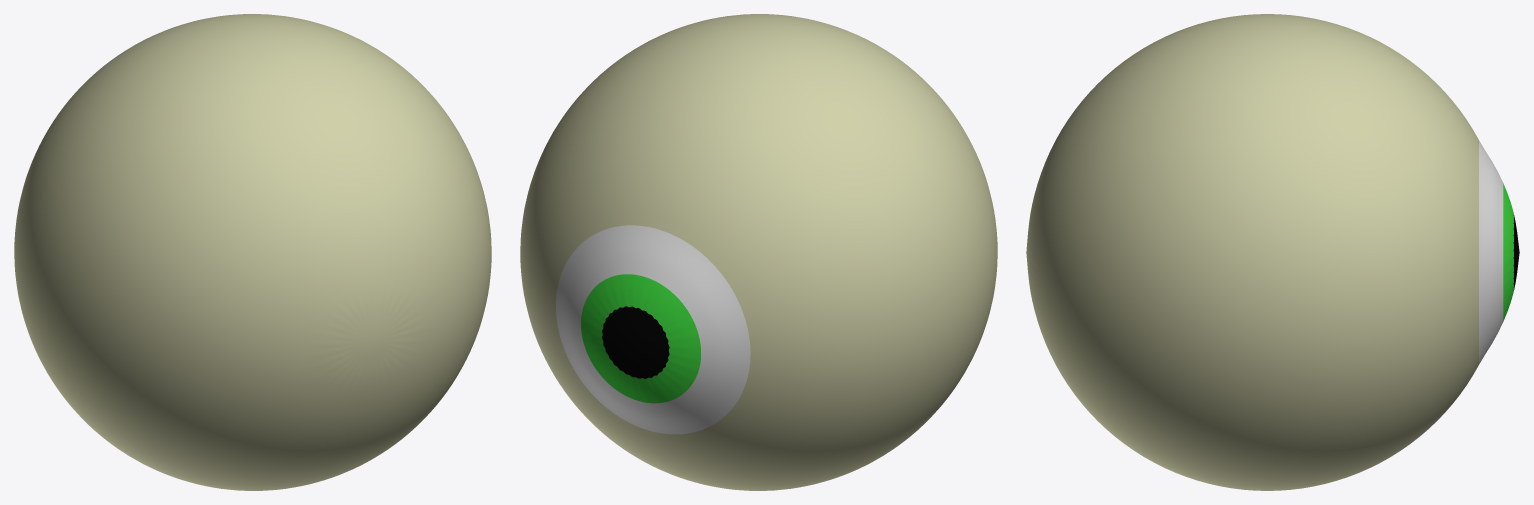
Rendered from boss.glb.
3 renders of one model, left to right at view 1: azimuth 30°, elevation 25°; view 2: azimuth 150°, elevation 25°; view 3: azimuth 270°, elevation 25°, orthographic.
Parts seen in each view (by area): view 1: Sphere.001; view 2: Sphere.001, Sphere.002, Sphere.004, Sphere.003; view 3: Sphere.001, Sphere.002, Sphere.004.
Part boxes in pixels (box(x1,y1,x2,y2)): Sphere.001: box(14, 14, 491, 490); Sphere.001: box(520, 14, 997, 490); Sphere.002: box(556, 225, 750, 434); Sphere.004: box(581, 274, 700, 403); Sphere.003: box(602, 306, 669, 378); Sphere.001: box(1026, 14, 1478, 490); Sphere.002: box(1479, 140, 1503, 364); Sphere.004: box(1503, 183, 1513, 321).
Size of the model in its own units: 5.22 by 5.22 by 5.4.
